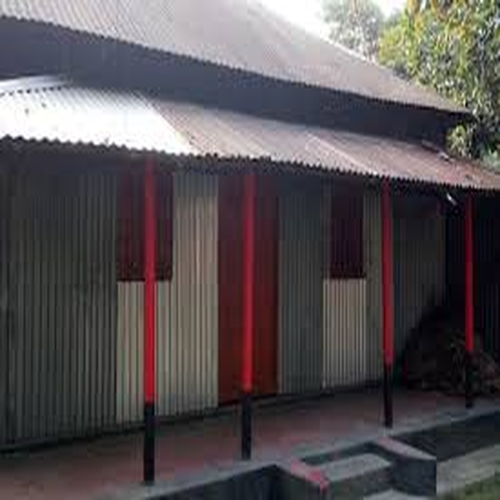Tin-shade House: (13, 1, 484, 470)
